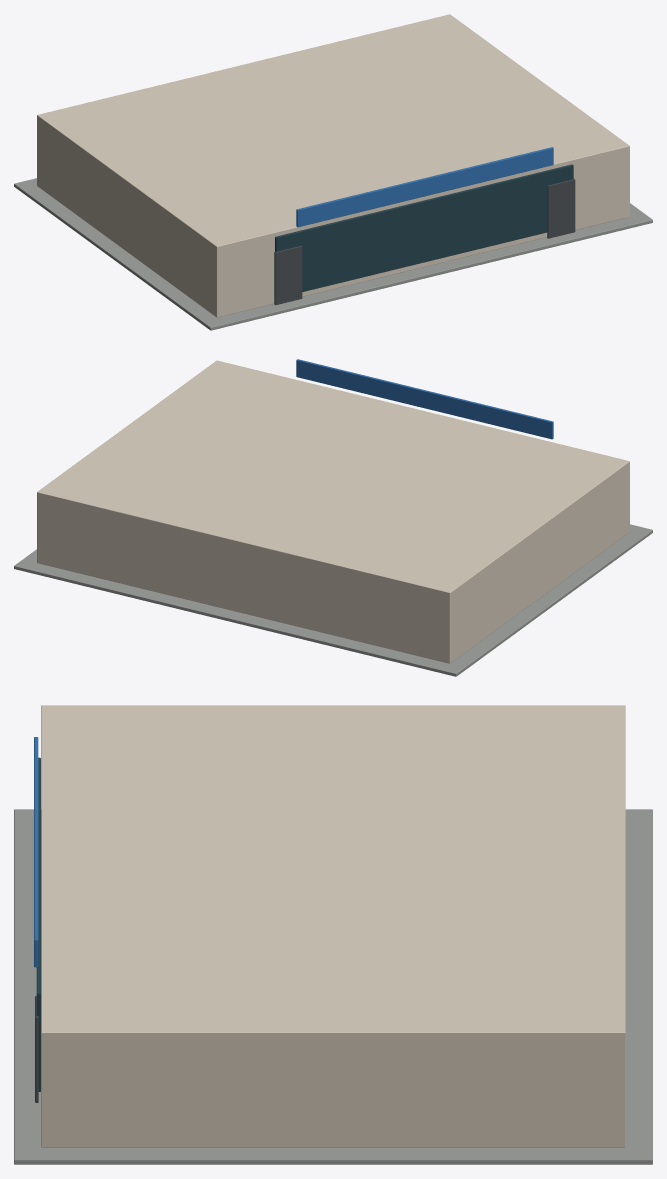
Rendered from Building_Commercial_001.glb.
The picture shows the model from 3 angles, top to bottom: view 1: azimuth 30°, elevation 25°; view 2: azimuth 150°, elevation 25°; view 3: azimuth 270°, elevation 25°; orthographic projection. The views are drawn at different scales.
Parts seen in each view (by area): view 1: Building_Commercial_001; view 2: Building_Commercial_001; view 3: Building_Commercial_001.
Boxes of the visible parts, <box> form: Building_Commercial_001: <box>14,14,652,330</box>; Building_Commercial_001: <box>14,359,652,676</box>; Building_Commercial_001: <box>14,705,652,1164</box>.
Size of the model in its own units: 22.74 by 4.59 by 17.53.
